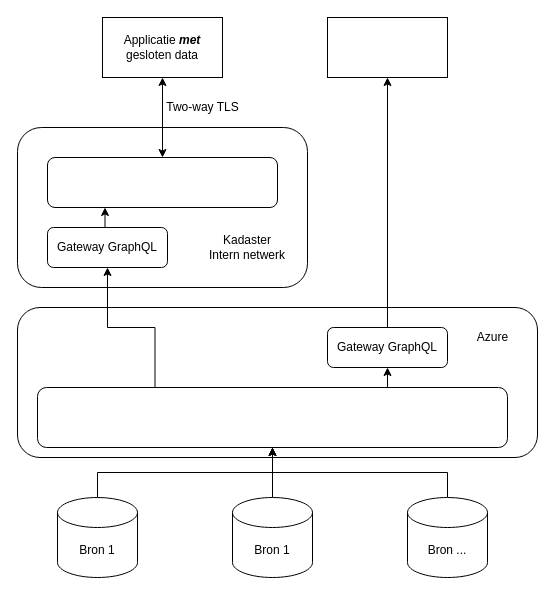
Some shapes in this 555 by 595 pixel diagram are drawn without their labels. The centre of each missing label's shape, as x and y in pixels:
"Applicatie zonder gesloten data" goes at point 387,47.
"GraphQL laag" goes at point 272,417.
"Toegangsdienst" goes at point 162,182.
